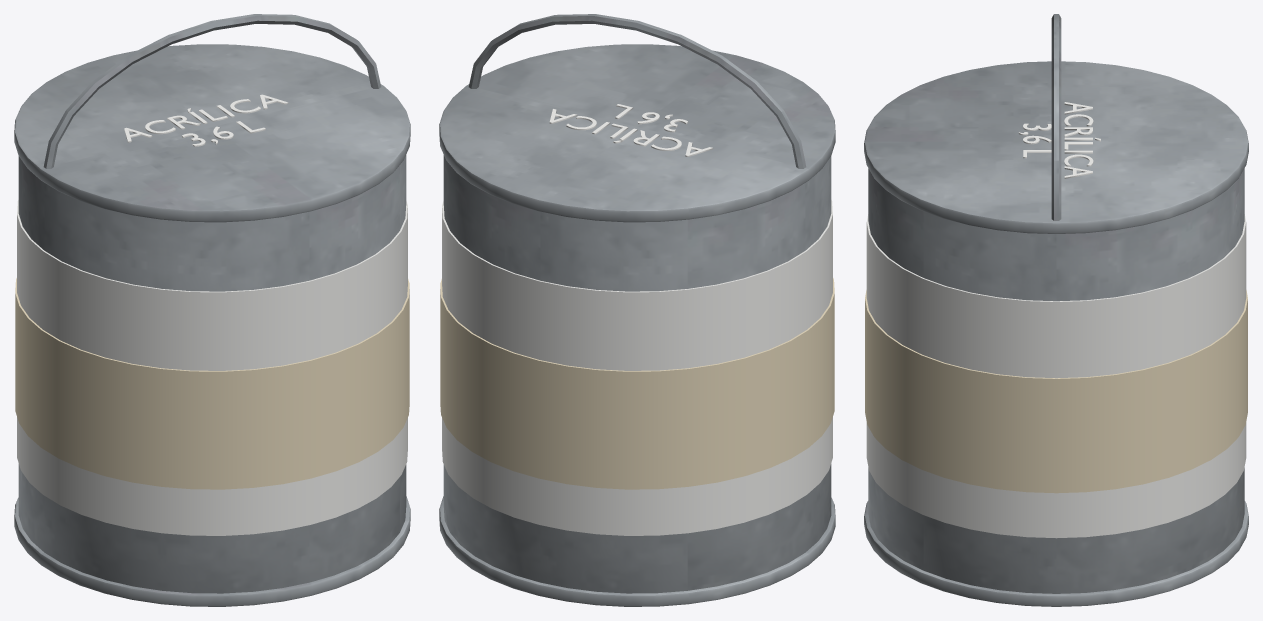
Rendered from PIN-TIN-002.glb.
3 renders of one model, left to right at view 1: azimuth 30°, elevation 25°; view 2: azimuth 150°, elevation 25°; view 3: azimuth 270°, elevation 25°, orthographic. The views are drawn at different scales.
Parts seen in each view (by area): view 1: PIN-TIN-002_aro, PIN-TIN-002_rotulo, PIN-TIN-002_lata, PIN-TIN-002_amostra, PIN-TIN-002_aro2, PIN-TIN-002_alca, PIN-TIN-002_texto; view 2: PIN-TIN-002_aro, PIN-TIN-002_rotulo, PIN-TIN-002_lata, PIN-TIN-002_amostra, PIN-TIN-002_aro2, PIN-TIN-002_alca, PIN-TIN-002_texto; view 3: PIN-TIN-002_aro, PIN-TIN-002_rotulo, PIN-TIN-002_lata, PIN-TIN-002_amostra, PIN-TIN-002_aro2, PIN-TIN-002_alca, PIN-TIN-002_texto.
Part boxes in pixels (x1=…): PIN-TIN-002_aro: x1=14, y1=44, x2=410, y2=222; PIN-TIN-002_rotulo: x1=17, y1=200, x2=407, y2=535; PIN-TIN-002_lata: x1=18, y1=155, x2=406, y2=593; PIN-TIN-002_amostra: x1=15, y1=278, x2=409, y2=489; PIN-TIN-002_aro2: x1=14, y1=496, x2=410, y2=606; PIN-TIN-002_alca: x1=43, y1=14, x2=381, y2=168; PIN-TIN-002_texto: x1=124, y1=94, x2=288, y2=146; PIN-TIN-002_aro: x1=439, y1=44, x2=835, y2=222; PIN-TIN-002_rotulo: x1=442, y1=200, x2=832, y2=535; PIN-TIN-002_lata: x1=443, y1=155, x2=831, y2=593; PIN-TIN-002_amostra: x1=440, y1=278, x2=834, y2=489; PIN-TIN-002_aro2: x1=439, y1=496, x2=835, y2=606; PIN-TIN-002_alca: x1=468, y1=14, x2=806, y2=168; PIN-TIN-002_texto: x1=549, y1=104, x2=713, y2=156; PIN-TIN-002_aro: x1=864, y1=61, x2=1248, y2=233; PIN-TIN-002_rotulo: x1=866, y1=214, x2=1246, y2=538; PIN-TIN-002_lata: x1=868, y1=168, x2=1244, y2=593; PIN-TIN-002_amostra: x1=865, y1=290, x2=1247, y2=493; PIN-TIN-002_aro2: x1=864, y1=501, x2=1248, y2=606; PIN-TIN-002_alca: x1=1051, y1=14, x2=1061, y2=220; PIN-TIN-002_texto: x1=1018, y1=102, x2=1100, y2=178.
Size of the model in its own units: 0.174 by 0.2429 by 0.174.
Materials: 4 (1 with a texture image).
